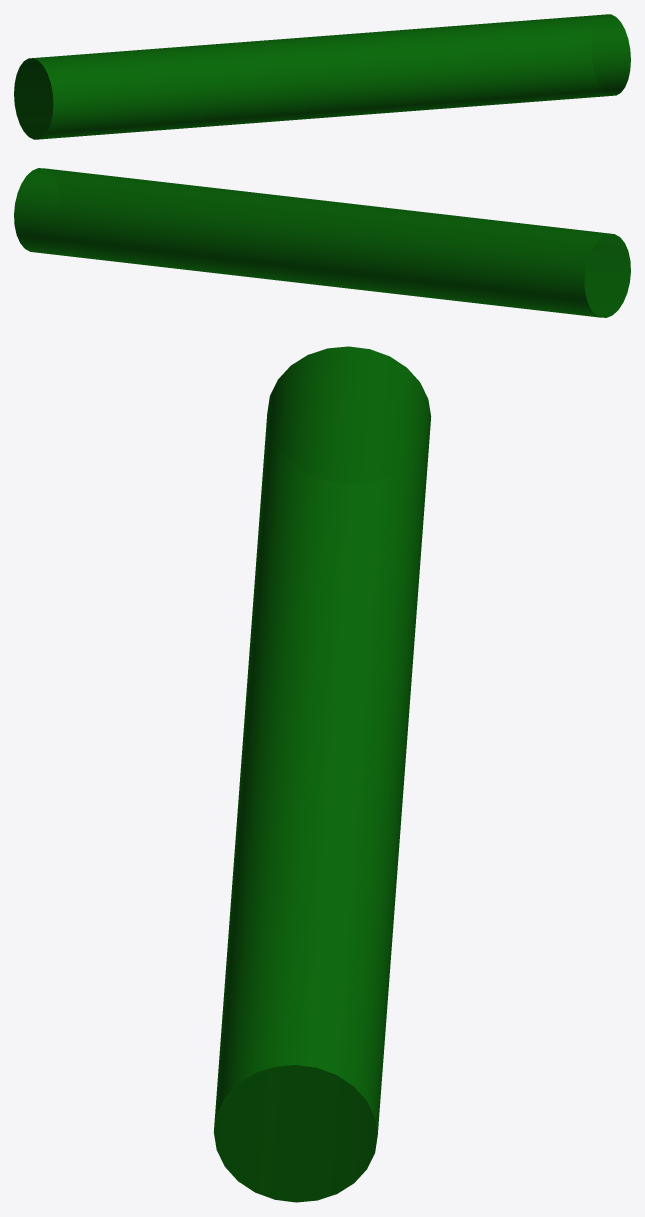
Rendered from Event_194851961_jet_5.fbx.
3 views of the same model, one above another, from view 1: azimuth 30°, elevation 25°; view 2: azimuth 150°, elevation 25°; view 3: azimuth 270°, elevation 25° (orthographic). The views are drawn at different scales.
Visible parts, largest first — view 1: Model; view 2: Model; view 3: Model.
Part boxes in pixels (x1,y1,x2,y2): Model: [14, 14, 630, 139]; Model: [14, 168, 630, 317]; Model: [213, 346, 431, 1202].
Bounding box in the file's own units: 0.3233 × 0.0847 × 0.053.
